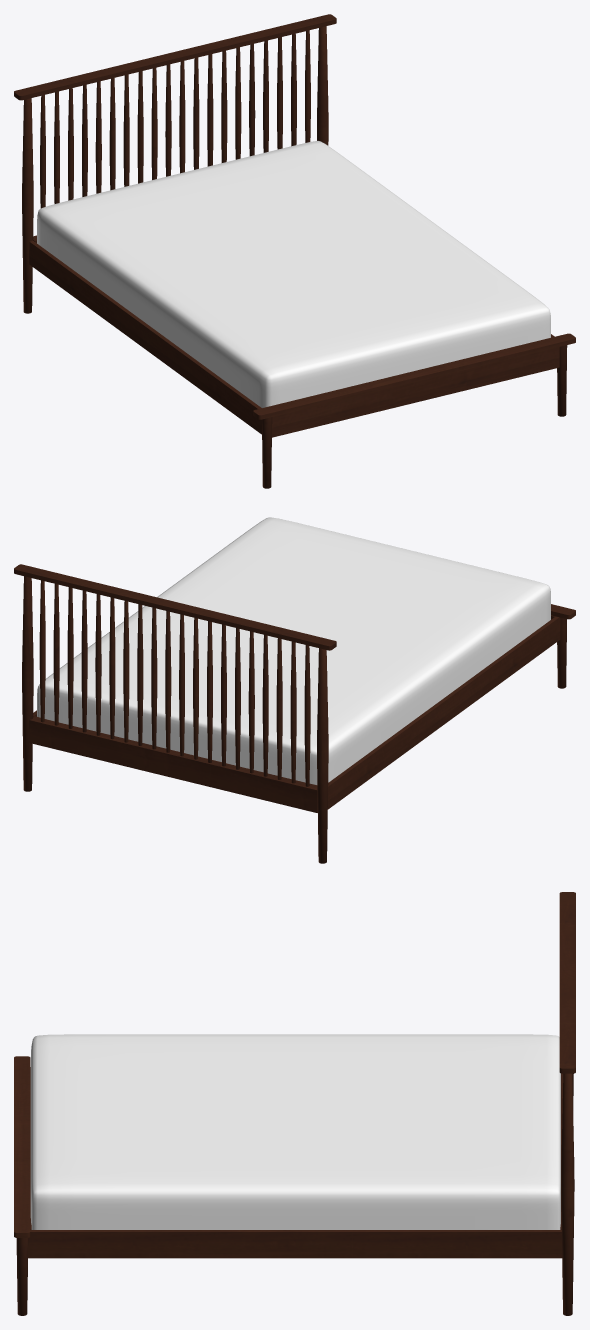
File: bed_10_02.fbx
The picture shows the model from 3 angles, top to bottom: view 1: azimuth 30°, elevation 25°; view 2: azimuth 150°, elevation 25°; view 3: azimuth 270°, elevation 25°; orthographic projection. The views are drawn at different scales.
Visible parts, largest first — view 1: bed_10_02.001; view 2: bed_10_02.001; view 3: bed_10_02.001.
Boxes of the visible parts, x1,y1,x2,y2 form: bed_10_02.001: (14,14,575,488); bed_10_02.001: (14,517,575,863); bed_10_02.001: (14,892,575,1315).
Size of the model in its own units: 158 by 105 by 212.
Materials: 1 (1 with a texture image).
